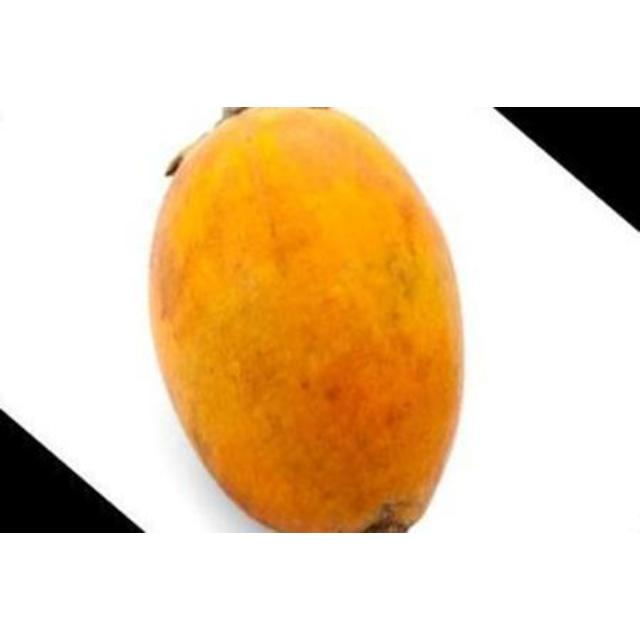good: (145, 107, 466, 532)
